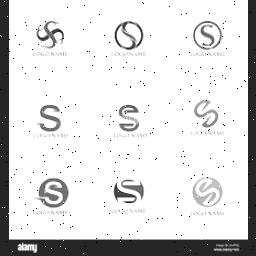s: (34, 102, 68, 134), (36, 178, 70, 208), (190, 22, 226, 50)
